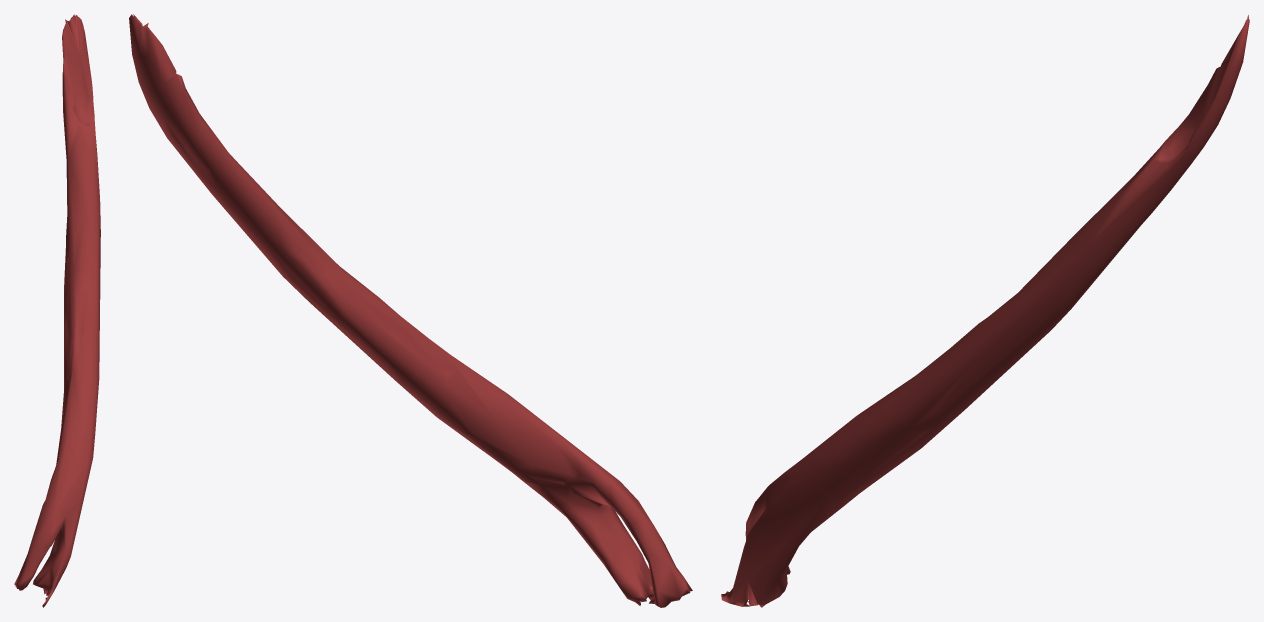
File: stylohyoid-muscle-l.glb
3 views of the same model, side by side, from view 1: azimuth 30°, elevation 25°; view 2: azimuth 150°, elevation 25°; view 3: azimuth 270°, elevation 25° (orthographic). The views are drawn at different scales.
Parts seen in each view (by area): view 1: Stylohyoid muscle.l; view 2: Stylohyoid muscle.l; view 3: Stylohyoid muscle.l.
Part boxes in pixels (x1,y1,x2,y2): Stylohyoid muscle.l: [14, 14, 100, 607]; Stylohyoid muscle.l: [129, 14, 692, 607]; Stylohyoid muscle.l: [721, 15, 1249, 607].
Bounding box in the file's own units: 0.0316 × 0.0628 × 0.0408.
